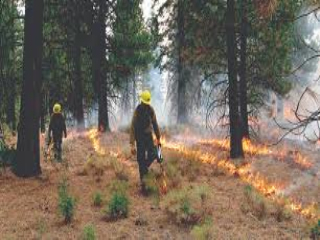fire: (168, 127, 312, 216), (77, 125, 129, 166)
